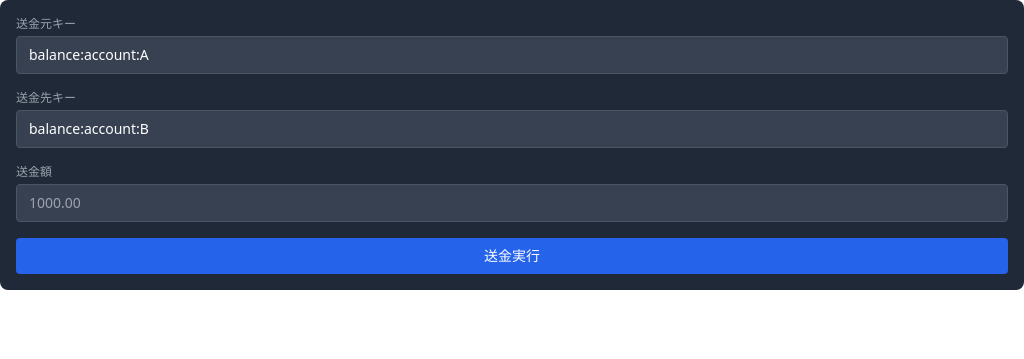
Test: TransferForm › 送金元と送金先が同じときバリデーションエラーを表示する
Set toKey same as fromKey
Replace the text in the field below "送金先キー" with "balance:account:A": (512, 129) [16,110,1008,148]
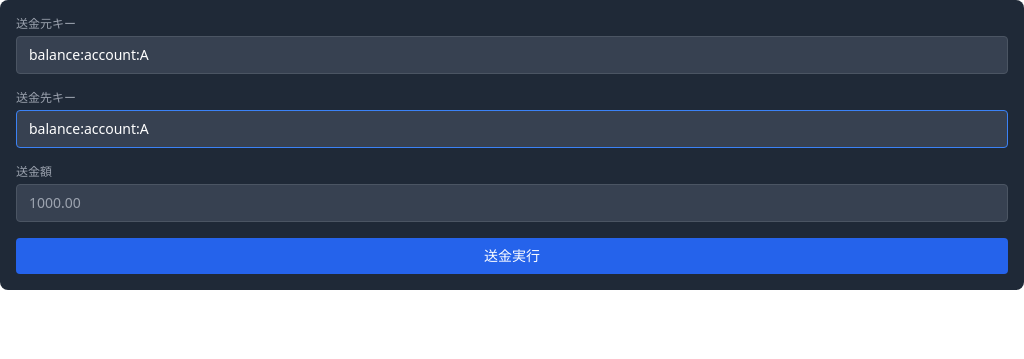
In the number field: (512, 203) [16,184,1008,222], type "1000"
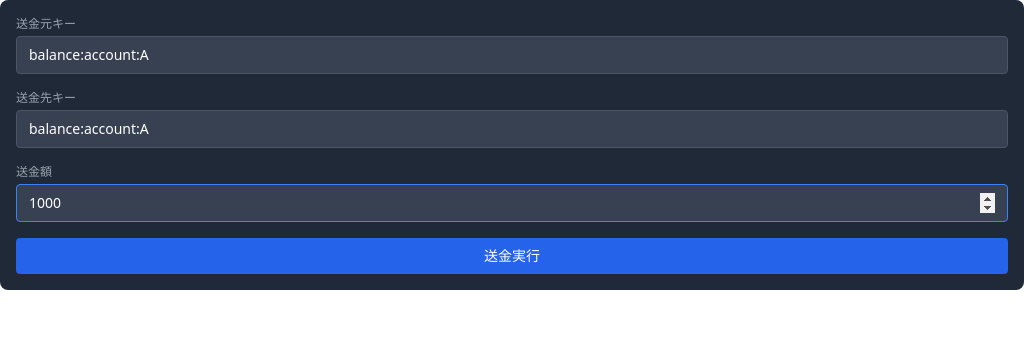
Click the button "送金実行": (512, 256) [16,238,1008,274]
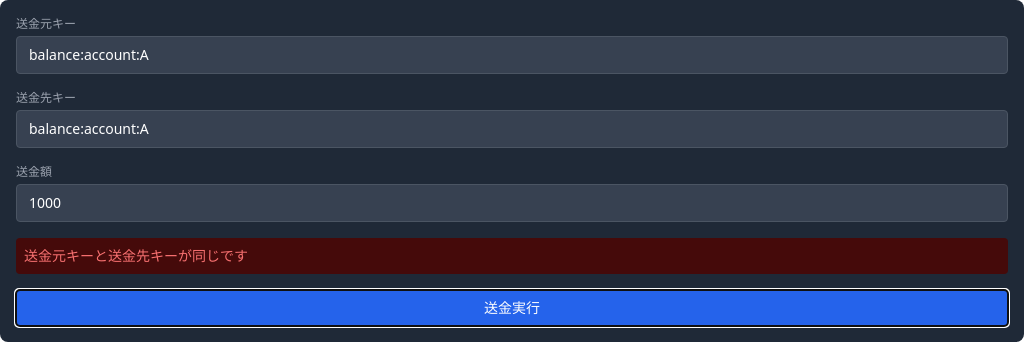
Check: the text "送金元キーと送金先キーが同じです" is shown, box [16,238,1008,274]
